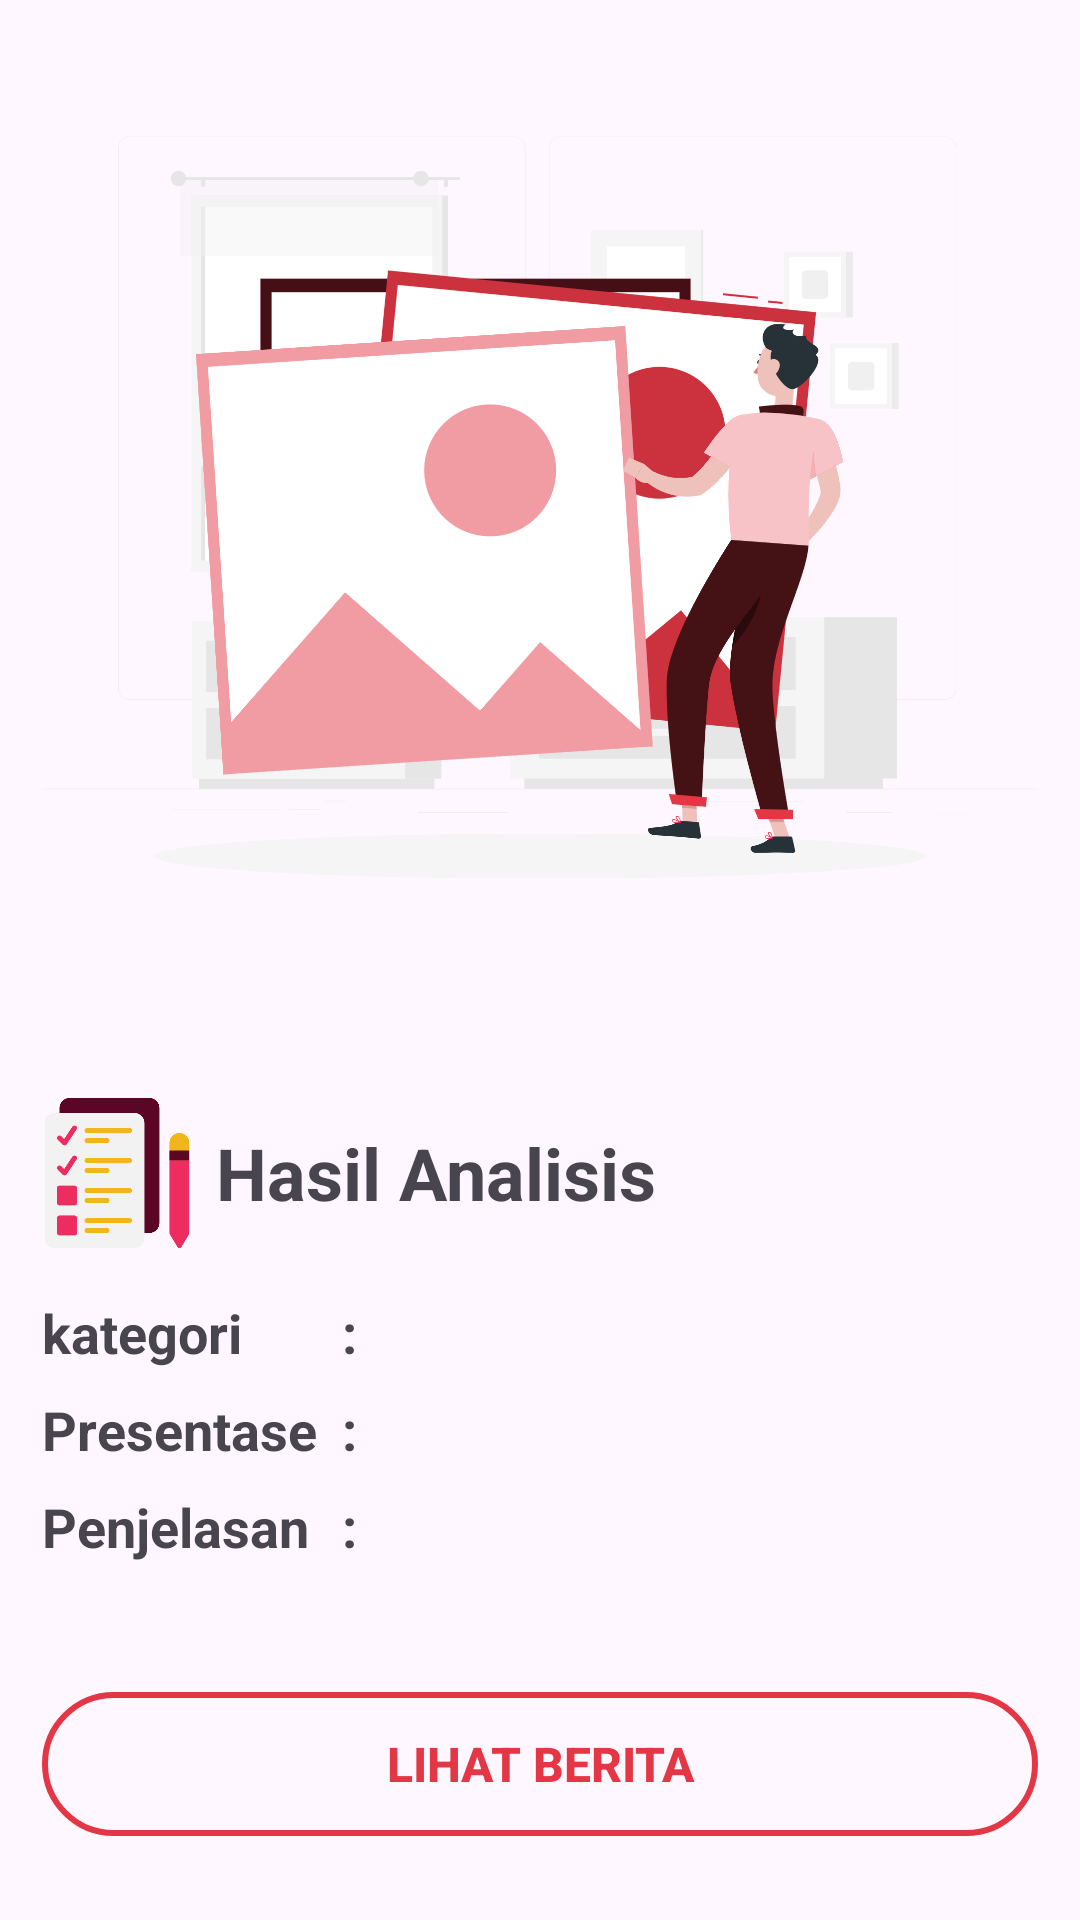

Screen size 1080px×1920px. Icon name, then its box in pixels as {"left": x1, "top": y1, "right": x2, "bottom": y2}:
result: {"left": 45, "top": 1098, "right": 190, "bottom": 1248}
